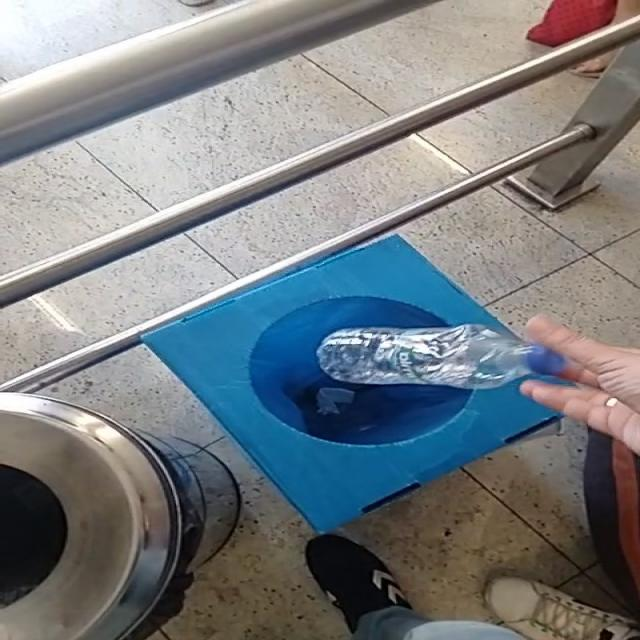plastic: (316, 324, 565, 390)
